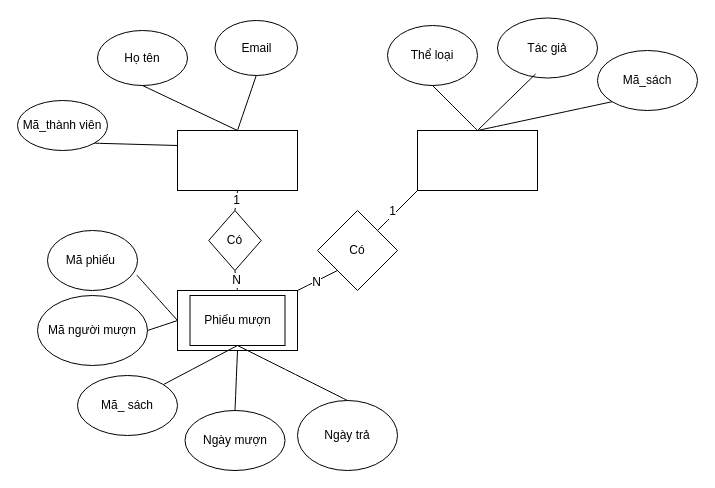
Image size: 715x488. Some labels were removed from this diagram. The shapes that lost their labels are listed below. From the top down, each one's centre as x and y in pixels, then its label:
(x=237, y=160): Thành viên
(x=477, y=160): Sách
